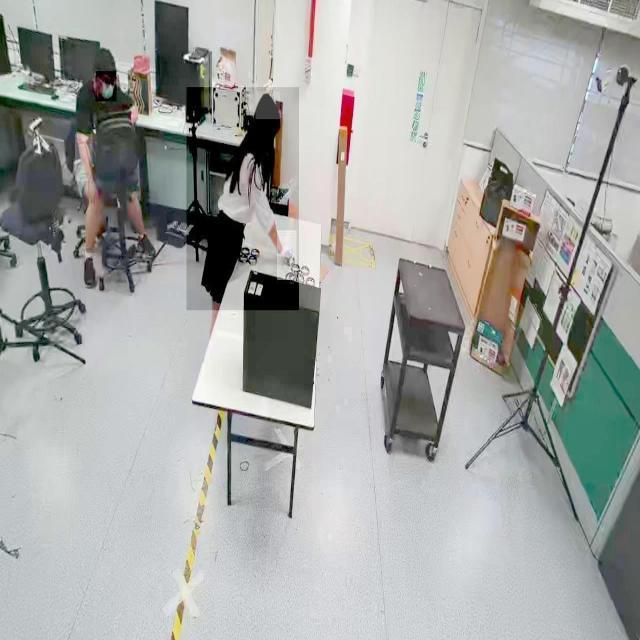gloves: (277, 230, 297, 280)
